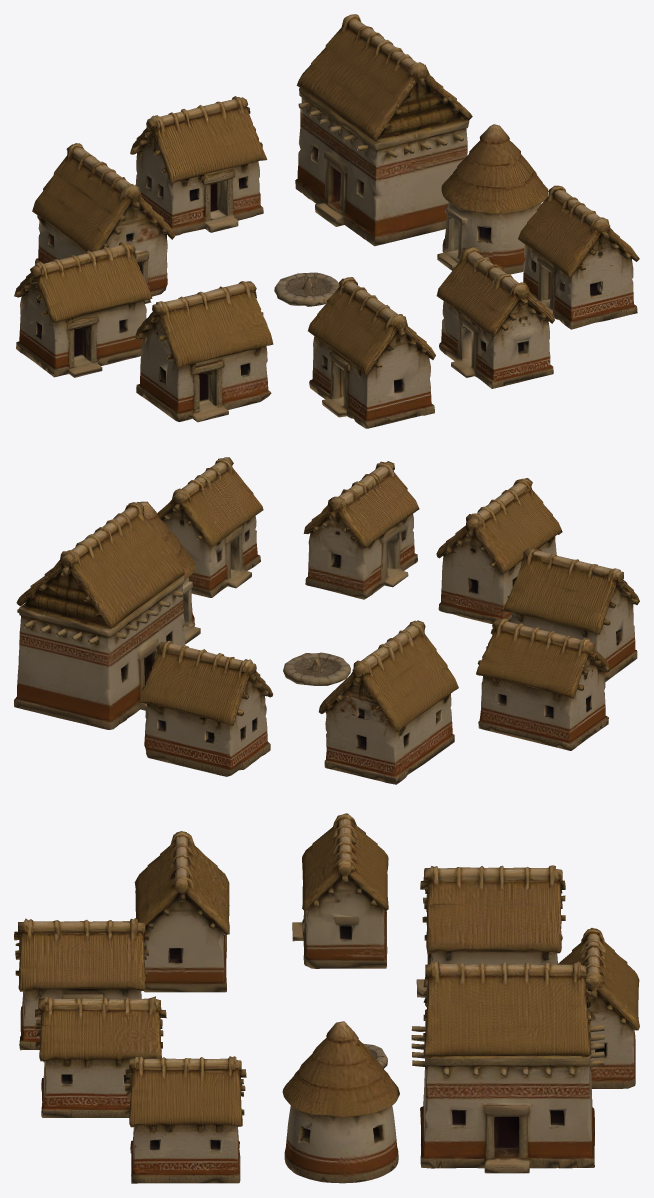
File: Ancient Village (Mesoamerican).fbx
The picture shows the model from 3 angles, top to bottom: view 1: azimuth 30°, elevation 25°; view 2: azimuth 150°, elevation 25°; view 3: azimuth 270°, elevation 25°; orthographic projection. The views are drawn at different scales.
Parts seen in each view (by area): view 1: tripo_node_c15034d0; view 2: tripo_node_c15034d0; view 3: tripo_node_c15034d0.
Part boxes in pixels (x1,y1,x2,y2): tripo_node_c15034d0: [14, 14, 639, 428]; tripo_node_c15034d0: [14, 457, 639, 784]; tripo_node_c15034d0: [14, 813, 639, 1183].
Size of the model in its own units: 1 by 0.3117 by 0.9814.
